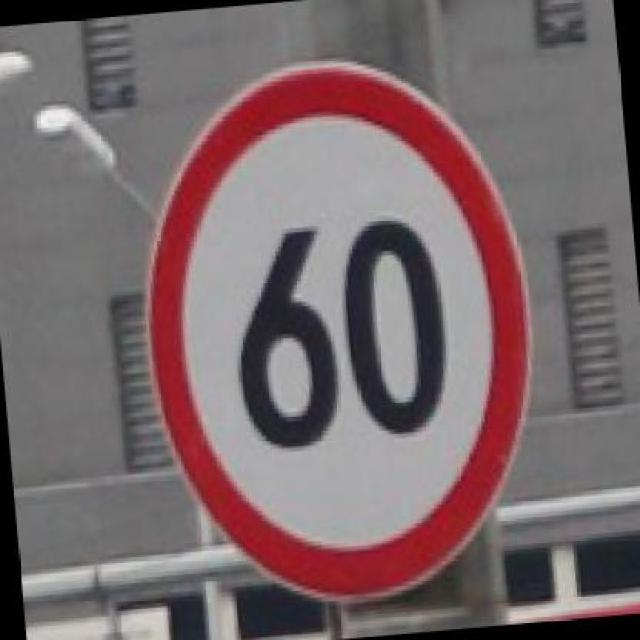Limite-60: (139, 54, 535, 605)
